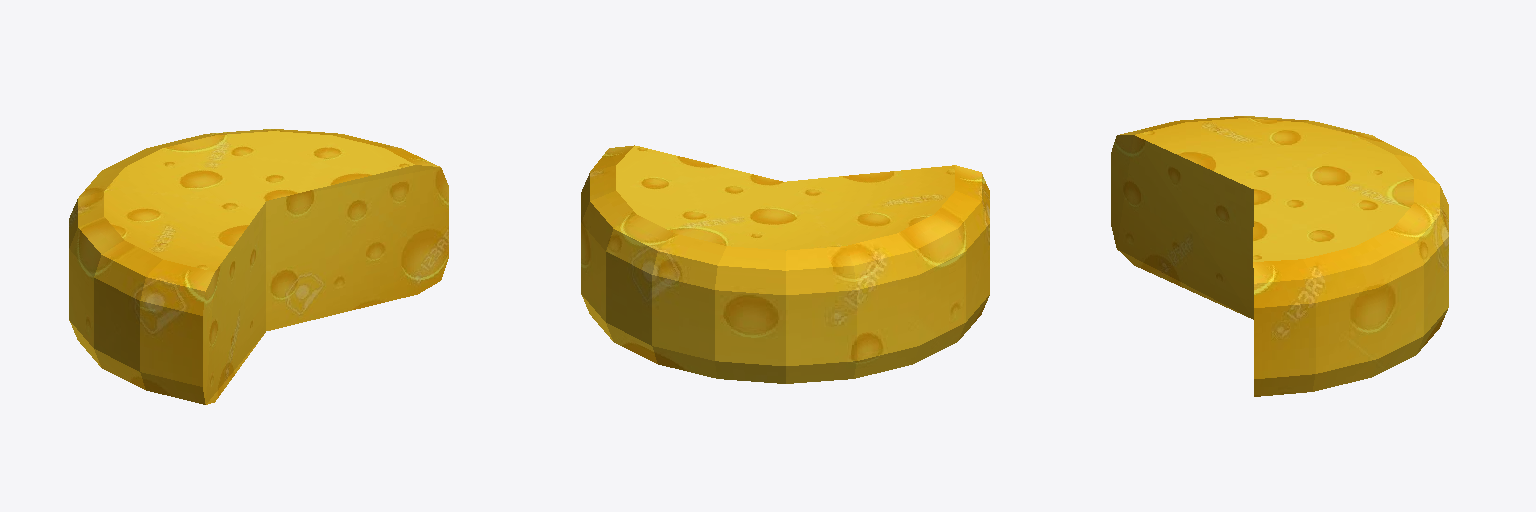
3 renders of one model, left to right at view 1: azimuth 30°, elevation 25°; view 2: azimuth 150°, elevation 25°; view 3: azimuth 270°, elevation 25°, orthographic.
Parts seen in each view (by area): view 1: Cylinder001_Mesh.003; view 2: Cylinder001_Mesh.003; view 3: Cylinder001_Mesh.003.
Part boxes in pixels (bbox=[...]): Cylinder001_Mesh.003: bbox=[69, 129, 448, 404]; Cylinder001_Mesh.003: bbox=[581, 145, 989, 383]; Cylinder001_Mesh.003: bbox=[1111, 116, 1448, 396].
Size of the model in its own units: 0.26 by 0.09 by 0.2116.
1 materials, 1 textured.